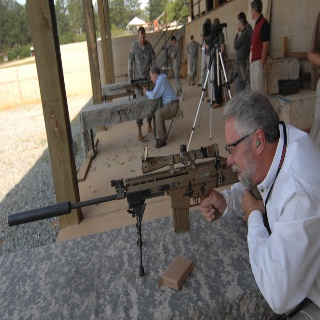rifle: (8, 141, 241, 280)
